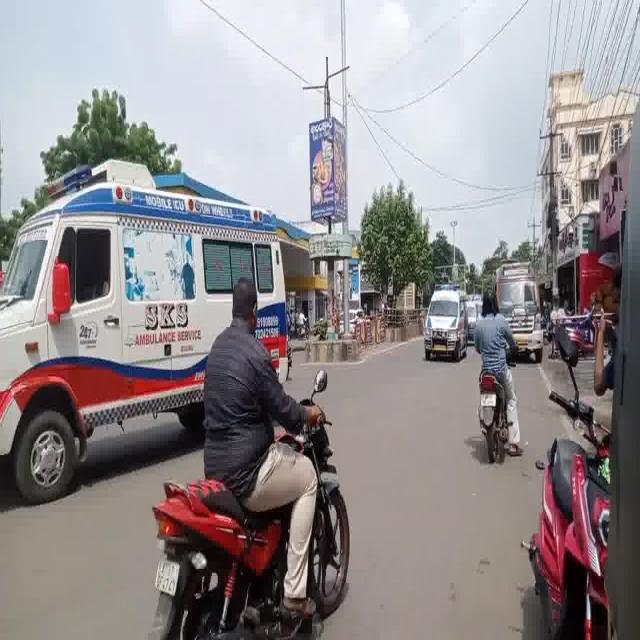ambulance: (9, 156, 178, 483), (203, 170, 278, 286), (413, 281, 470, 373), (500, 254, 543, 361)
